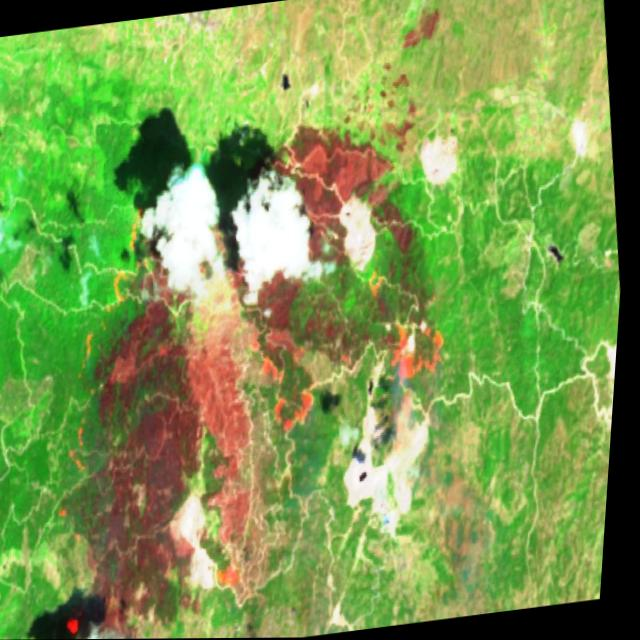fire: (0, 197, 208, 640), (255, 339, 338, 442), (381, 306, 463, 392)
